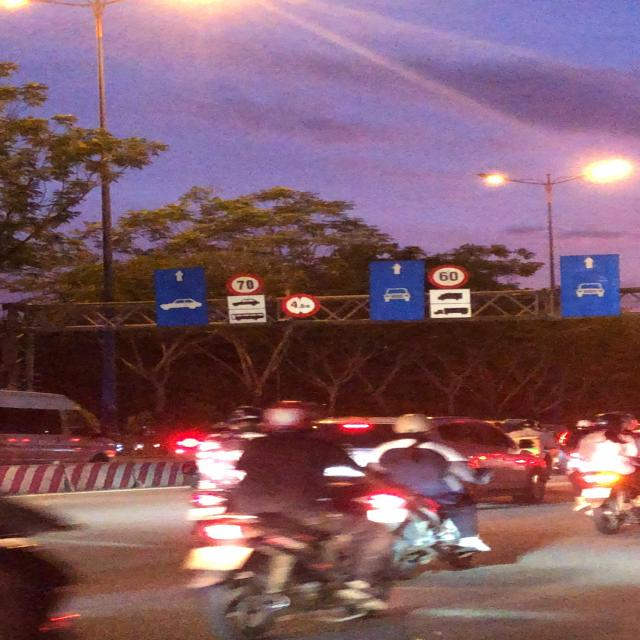Bien bao han che chieu cao: (279, 292, 321, 320)
Bien bao toc do toi da cho phep: (424, 263, 472, 290), (223, 271, 263, 294)
